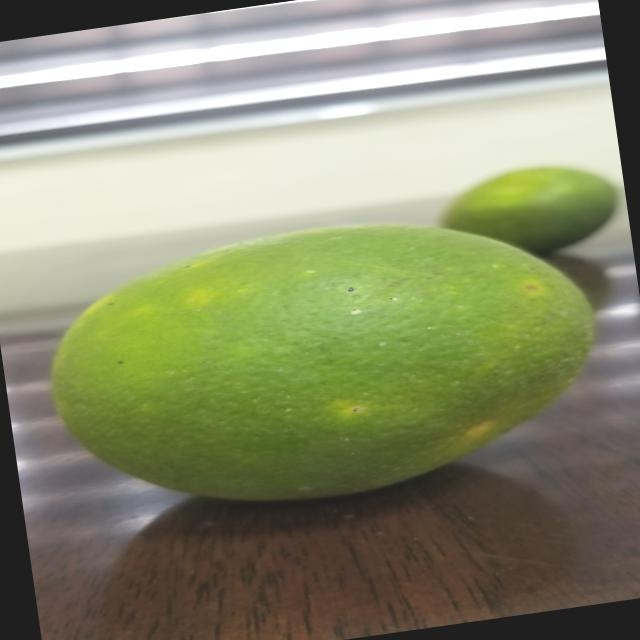agrume: (0, 194, 615, 552)
